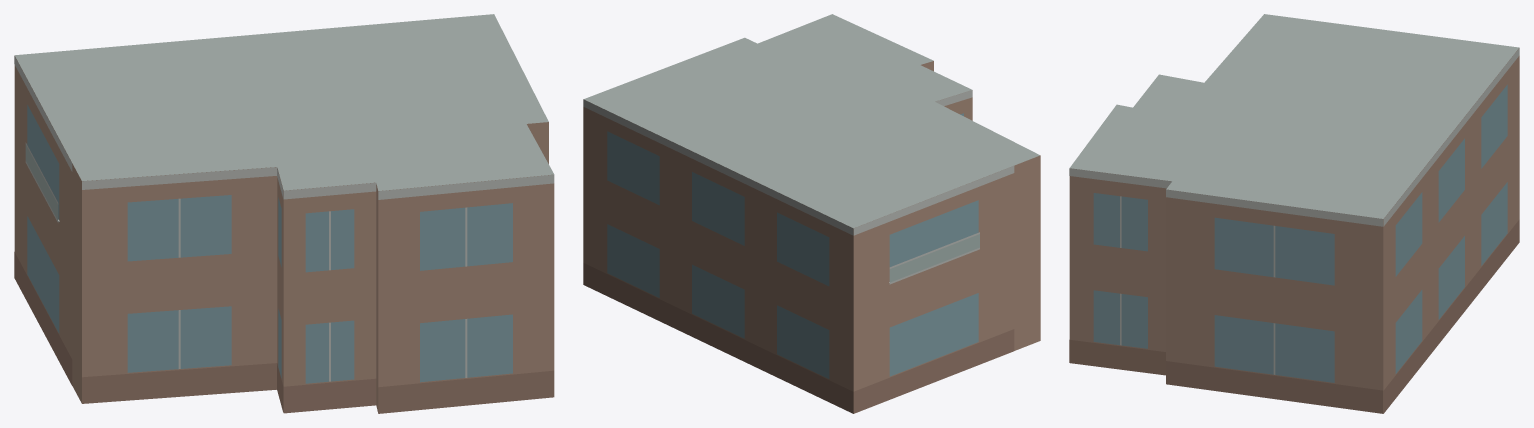
The model's file is survey-upis-32655617.glb.
3 renders of one model, left to right at view 1: azimuth 30°, elevation 25°; view 2: azimuth 150°, elevation 25°; view 3: azimuth 270°, elevation 25°, orthographic. The views are drawn at different scales.
Visible parts, largest first — view 1: survey-upis-32655617.tmp; view 2: survey-upis-32655617.tmp; view 3: survey-upis-32655617.tmp.
Boxes of the visible parts, x1,y1,x2,y2 form: survey-upis-32655617.tmp: (14,14,554,413); survey-upis-32655617.tmp: (583,14,1040,413); survey-upis-32655617.tmp: (1069,14,1519,413).
Bounding box in the file's own units: 13.78 × 6.1 × 12.78.
